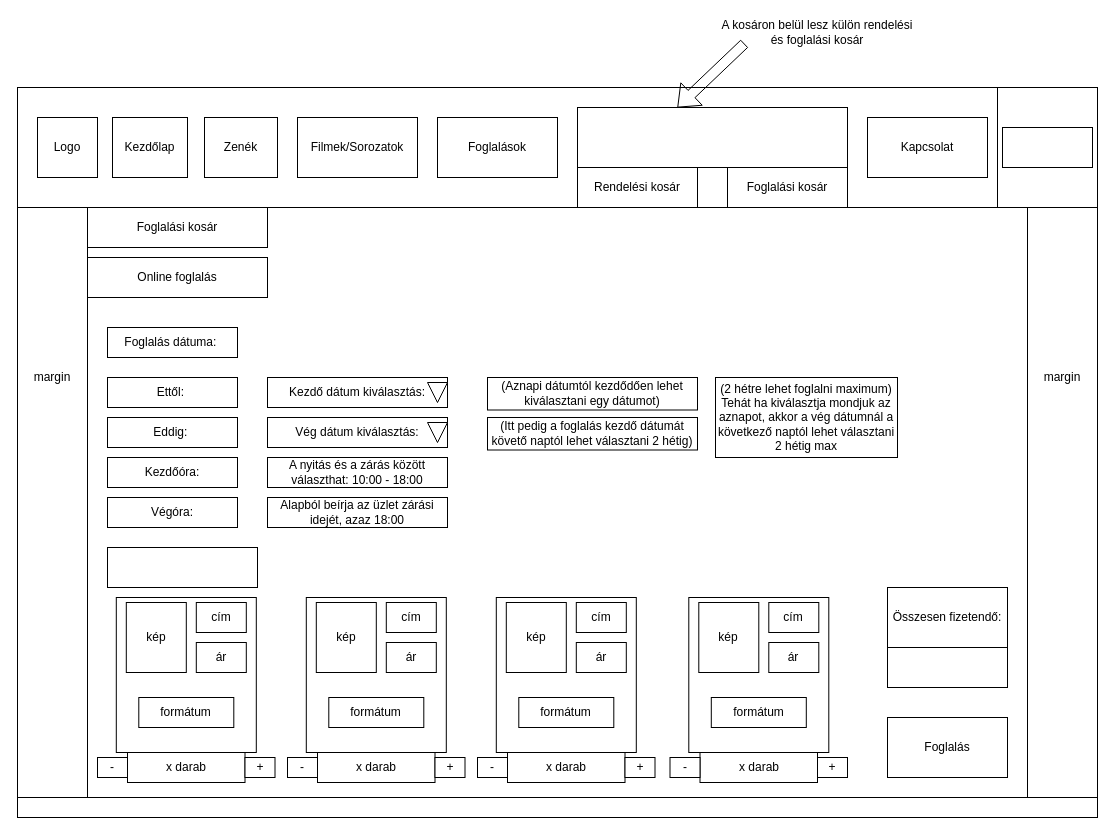
The diagram is 1115 pixels wide and 835 high, and some of its shapes have lost their labels. Each missing label, with the centre of its shape:
"Fiók bej/reg" goes at point 1047,147.
"Foglalni kívánt termékek:" goes at point 182,567.
"Footer" goes at point 557,807.
"Kosár" goes at point 712,137.
"Y összeg" goes at point 947,667.
